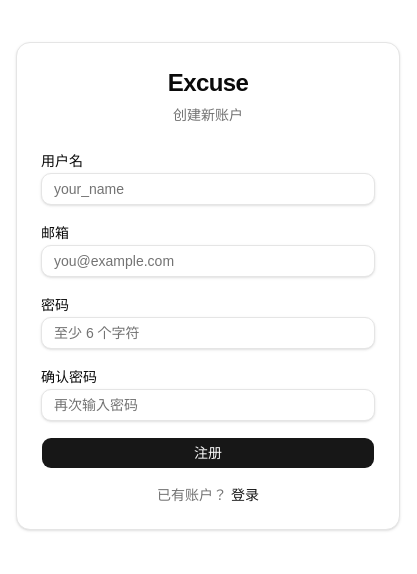
Scenario: register 页面 › 空表单提交显示验证错误
Click the button "注册" at (208,453), box x1=41 y1=437 x2=375 y2=469
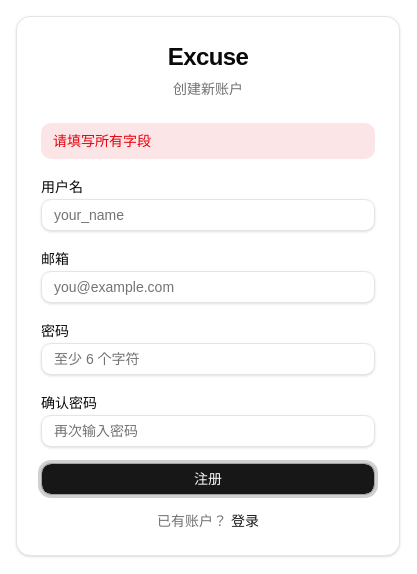
Expected: the text "请填写所有字段" is shown, x1=41 y1=123 x2=375 y2=159
